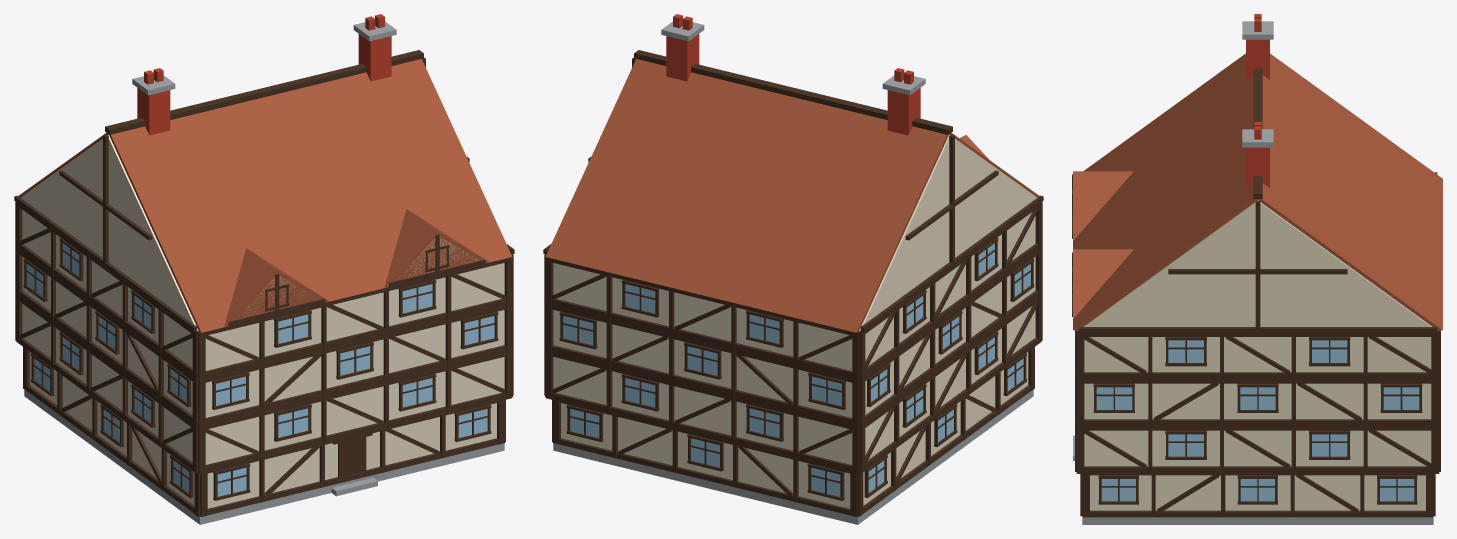
File: house-2x2-4f-tudor-a.glb
3 renders of one model, left to right at view 1: azimuth 30°, elevation 25°; view 2: azimuth 150°, elevation 25°; view 3: azimuth 270°, elevation 25°, orthographic.
Visible parts, largest first — view 1: house-2x2-4f-tudor-a; view 2: house-2x2-4f-tudor-a; view 3: house-2x2-4f-tudor-a.
Boxes of the visible parts, x1,y1,x2,y2 form: house-2x2-4f-tudor-a: [14, 14, 514, 524]; house-2x2-4f-tudor-a: [543, 14, 1043, 524]; house-2x2-4f-tudor-a: [1072, 14, 1442, 524].
Size of the model in its own units: 2 by 2.26 by 2.
1 material, 1 textured.
